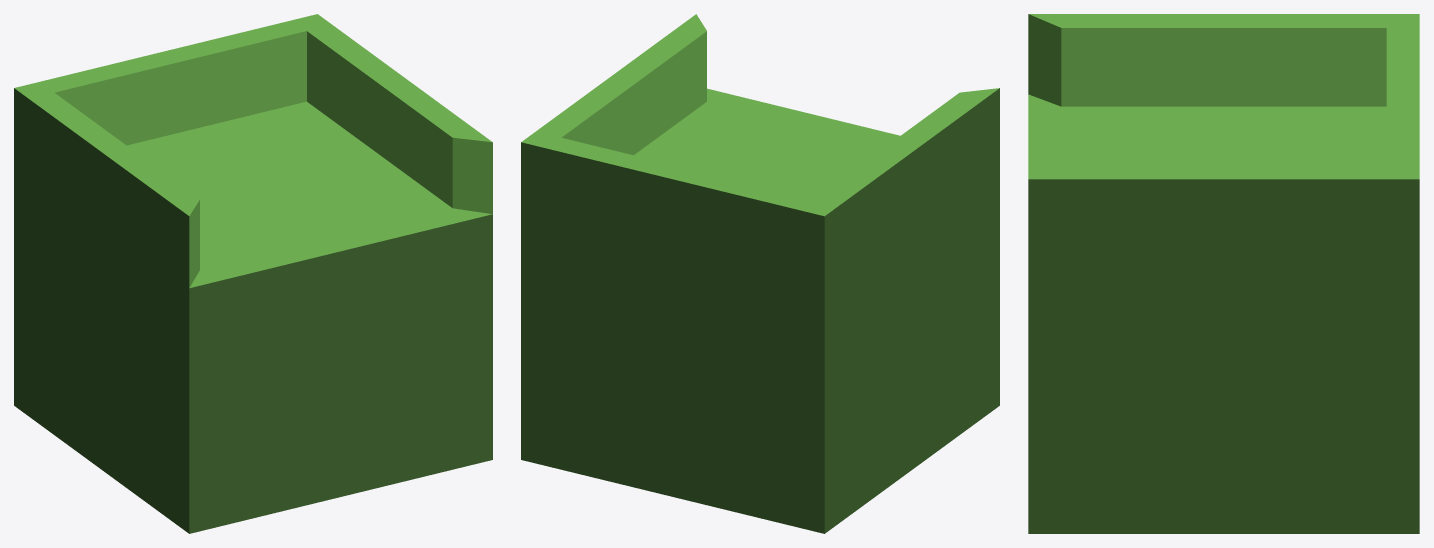
File: IsometricTile_Light_WaterFall.fbx
The picture shows the model from 3 angles, left to right: view 1: azimuth 30°, elevation 25°; view 2: azimuth 150°, elevation 25°; view 3: azimuth 270°, elevation 25°; orthographic projection. The views are drawn at different scales.
Parts seen in each view (by area): view 1: Cube.014; view 2: Cube.014; view 3: Cube.014.
Boxes of the visible parts, left/top/right/bottom form: Cube.014: left=14, top=14, right=492, bottom=533; Cube.014: left=521, top=14, right=999, bottom=533; Cube.014: left=1028, top=14, right=1419, bottom=533.
Bounding box in the file's own units: 1 × 1 × 1.
